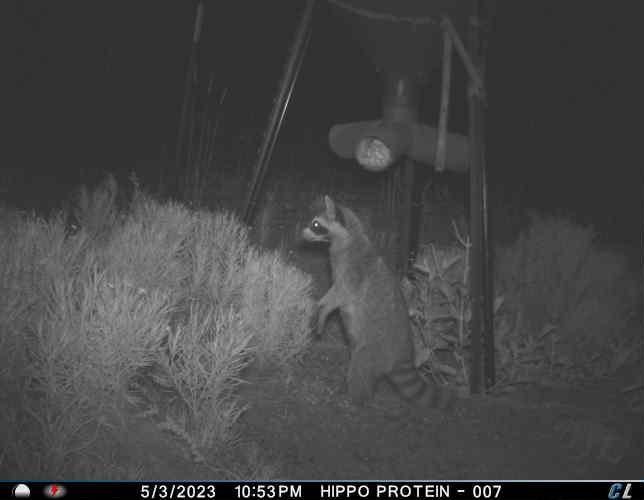Raccoon: (300, 193, 459, 413)
